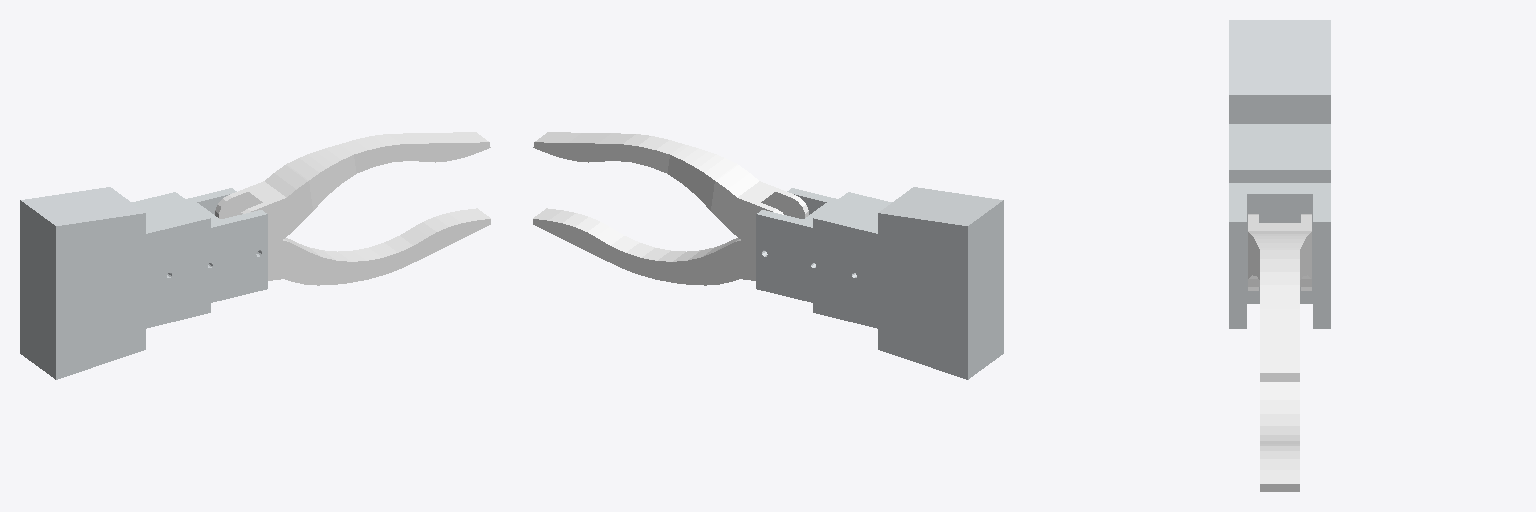
URDF robot description (Gripper URDF):
<?xml version="1.0" encoding="utf-8"?>
<!-- This URDF was automatically created by SolidWorks to URDF Exporter! Originally created by [author] ([email redacted]) 
     Commit Version: 1.5.1-0-g916b5db  Build Version: 1.5.7152.31018
     For more information, please see http://wiki.ros.org/sw_urdf_exporter -->
<robot
  name="Gripper URDF">
  <link
    name="base_gripper">
    <inertial>
      <origin
        xyz="-0.0204211188208551 1.28751831478431E-18 3.63413667128383E-19"
        rpy="0 0 0" />
      <mass
        value="0.786634201066895" />
      <inertia
        ixx="0.000460892604648364"
        ixy="1.91480919093637E-20"
        ixz="-8.67827343842154E-21"
        iyy="0.000924570118396014"
        iyz="-8.94756696521781E-21"
        izz="0.00118611546150363" />
    </inertial>
    <visual>
      <origin
        xyz="0 0 0"
        rpy="0 0 0" />
      <geometry>
        <mesh
          filename="package://Gripper URDF/meshes/base_gripper.STL" />
      </geometry>
      <material
        name="">
        <color
          rgba="0.898039215686275 0.917647058823529 0.929411764705882 1" />
      </material>
    </visual>
    <collision>
      <origin
        xyz="0 0 0"
        rpy="0 0 0" />
      <geometry>
        <mesh
          filename="package://Gripper URDF/meshes/base_gripper.STL" />
      </geometry>
    </collision>
  </link>
  <link
    name="top_finger">
    <inertial>
      <origin
        xyz="0.0569761702842869 0.0153366049733551 -2.28164314810049E-09"
        rpy="0 0 0" />
      <mass
        value="0.016699807063818" />
      <inertia
        ixx="1.70014563215441E-06"
        ixy="-2.62000269281901E-07"
        ixz="1.45877071218293E-12"
        iyy="2.82131218304835E-05"
        iyz="-2.19172940313993E-13"
        izz="2.84501465606867E-05" />
    </inertial>
    <visual>
      <origin
        xyz="0 0 0"
        rpy="0 0 0" />
      <geometry>
        <mesh
          filename="package://Gripper URDF/meshes/top_finger.STL" />
      </geometry>
      <material
        name="">
        <color
          rgba="1 1 1 1" />
      </material>
    </visual>
    <collision>
      <origin
        xyz="0 0 0"
        rpy="0 0 0" />
      <geometry>
        <mesh
          filename="package://Gripper URDF/meshes/top_finger.STL" />
      </geometry>
    </collision>
  </link>
  <joint
    name="joint_top"
    type="continuous">
    <origin
      xyz="0.055 0 0"
      rpy="1.5708 -0.13844 0" />
    <parent
      link="base_gripper" />
    <child
      link="top_finger" />
    <axis
      xyz="0 0 1" />
  </joint>
  <link
    name="bottom_finger">
    <inertial>
      <origin
        xyz="0.052556064130849 0.013895592166469 2.33049959033256E-07"
        rpy="0 0 0" />
      <mass
        value="0.0166412268723713" />
      <inertia
        ixx="1.43312220084271E-06"
        ixy="-1.15712620736261E-06"
        ixz="-2.27936154732058E-10"
        iyy="3.25661558107561E-05"
        iyz="-1.99946204981851E-11"
        izz="3.33752733872423E-05" />
    </inertial>
    <visual>
      <origin
        xyz="0 0 0"
        rpy="0 0 0" />
      <geometry>
        <mesh
          filename="package://Gripper URDF/meshes/bottom_finger.STL" />
      </geometry>
      <material
        name="">
        <color
          rgba="1 1 1 1" />
      </material>
    </visual>
    <collision>
      <origin
        xyz="0 0 0"
        rpy="0 0 0" />
      <geometry>
        <mesh
          filename="package://Gripper URDF/meshes/bottom_finger.STL" />
      </geometry>
    </collision>
  </link>
  <joint
    name="joint_bottom"
    type="continuous">
    <origin
      xyz="0.055 0 0"
      rpy="-1.5707963267949 0.112613956633998 0" />
    <parent
      link="base_gripper" />
    <child
      link="bottom_finger" />
    <axis
      xyz="0 0 1" />
  </joint>
</robot>

--- Facts derived from the render (not from the file) ---
Views: 3 orthographic renders of the robot side by side, from view 1: azimuth 30°, elevation 25°; view 2: azimuth 150°, elevation 25°; view 3: azimuth 270°, elevation 25°.
Robot: Gripper URDF — 3 links, 2 joints (2 continuous); root link base_gripper; default pose: all joints at 0.
Visible links, largest first — view 1: base_gripper, top_finger, bottom_finger; view 2: base_gripper, top_finger, bottom_finger; view 3: base_gripper, top_finger, bottom_finger.
Link boxes in pixels (<box>): base_gripper: <box>20,187,267,379</box>; top_finger: <box>215,132,490,251</box>; bottom_finger: <box>268,208,490,285</box>; base_gripper: <box>756,187,1003,379</box>; top_finger: <box>533,132,808,251</box>; bottom_finger: <box>533,208,755,285</box>; base_gripper: <box>1229,20,1330,328</box>; top_finger: <box>1248,214,1311,381</box>; bottom_finger: <box>1260,382,1299,491</box>.
Bounding box of the posed robot: 0.2733 × 0.038 × 0.09 m (x, y, z).
Meshes: 3 distinct files referenced, 3 mesh visuals loaded (3 binary STL).